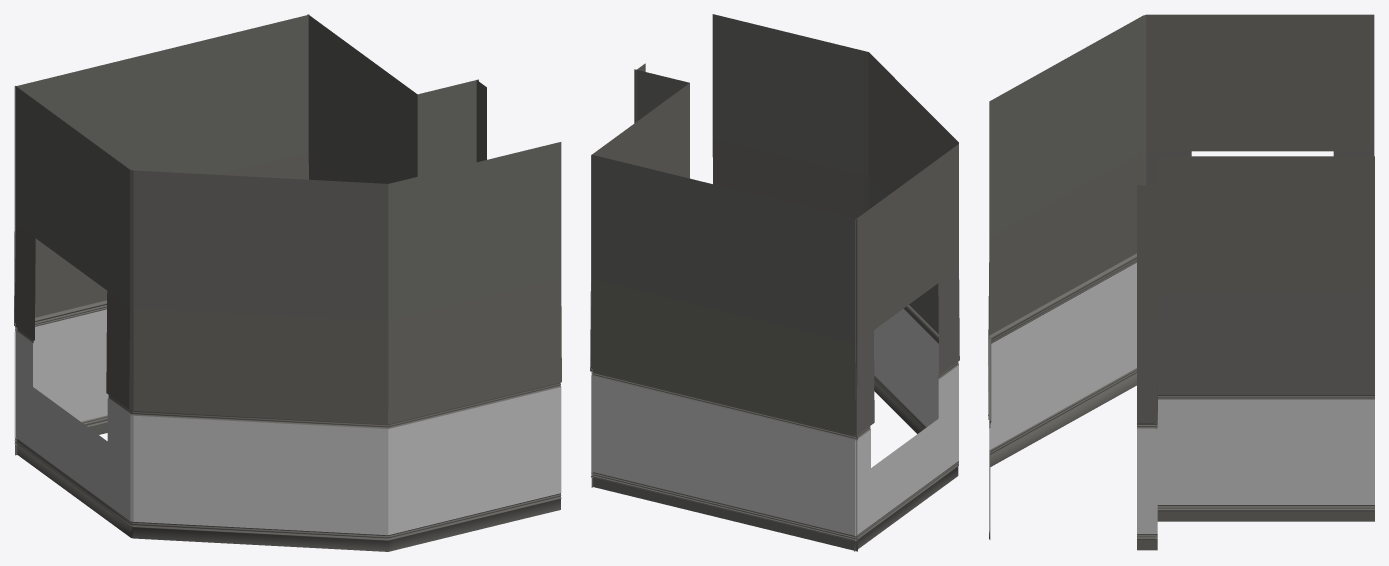
Rendered from New Bedroom Walls.fbx.
3 renders of one model, left to right at view 1: azimuth 30°, elevation 25°; view 2: azimuth 150°, elevation 25°; view 3: azimuth 270°, elevation 25°, orthographic. The views are drawn at different scales.
Visible parts, largest first — view 1: Moulding_009; view 2: Moulding_009; view 3: Moulding_009.
Boxes of the visible parts, <box> form: Moulding_009: <box>14,14,561,551</box>; Moulding_009: <box>590,14,959,551</box>; Moulding_009: <box>988,14,1374,550</box>.
Bounding box in the file's own units: 12.51 × 12.38 × 11.87.
